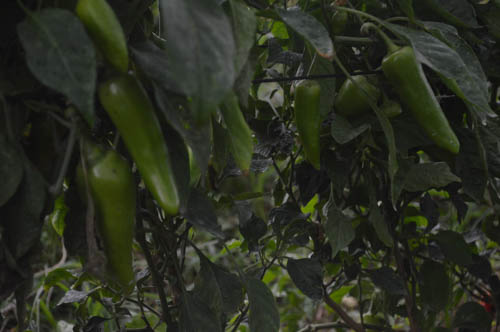ChiliPepper: (97, 78, 188, 216), (380, 44, 468, 163), (81, 150, 138, 295), (75, 1, 134, 75), (288, 76, 327, 171), (336, 69, 379, 124)
